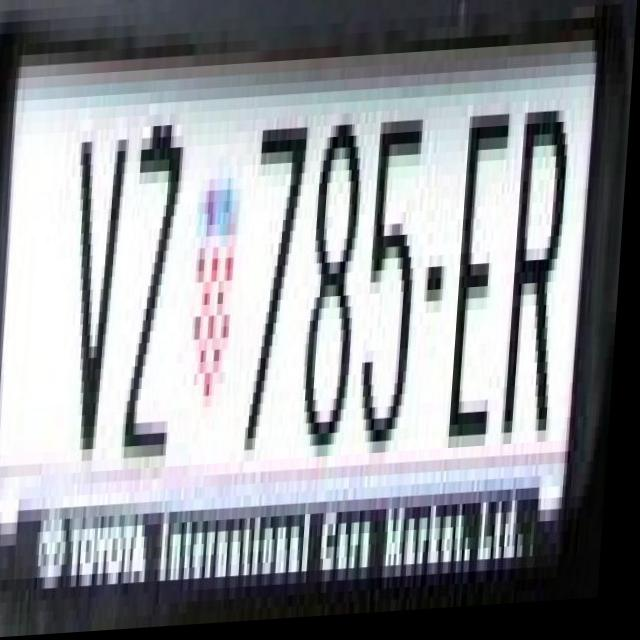5: (360, 80, 433, 460)
7: (239, 98, 309, 478)
8: (301, 106, 366, 451)
E: (450, 76, 517, 455)
V: (67, 118, 130, 464)
Z: (124, 127, 187, 472)
